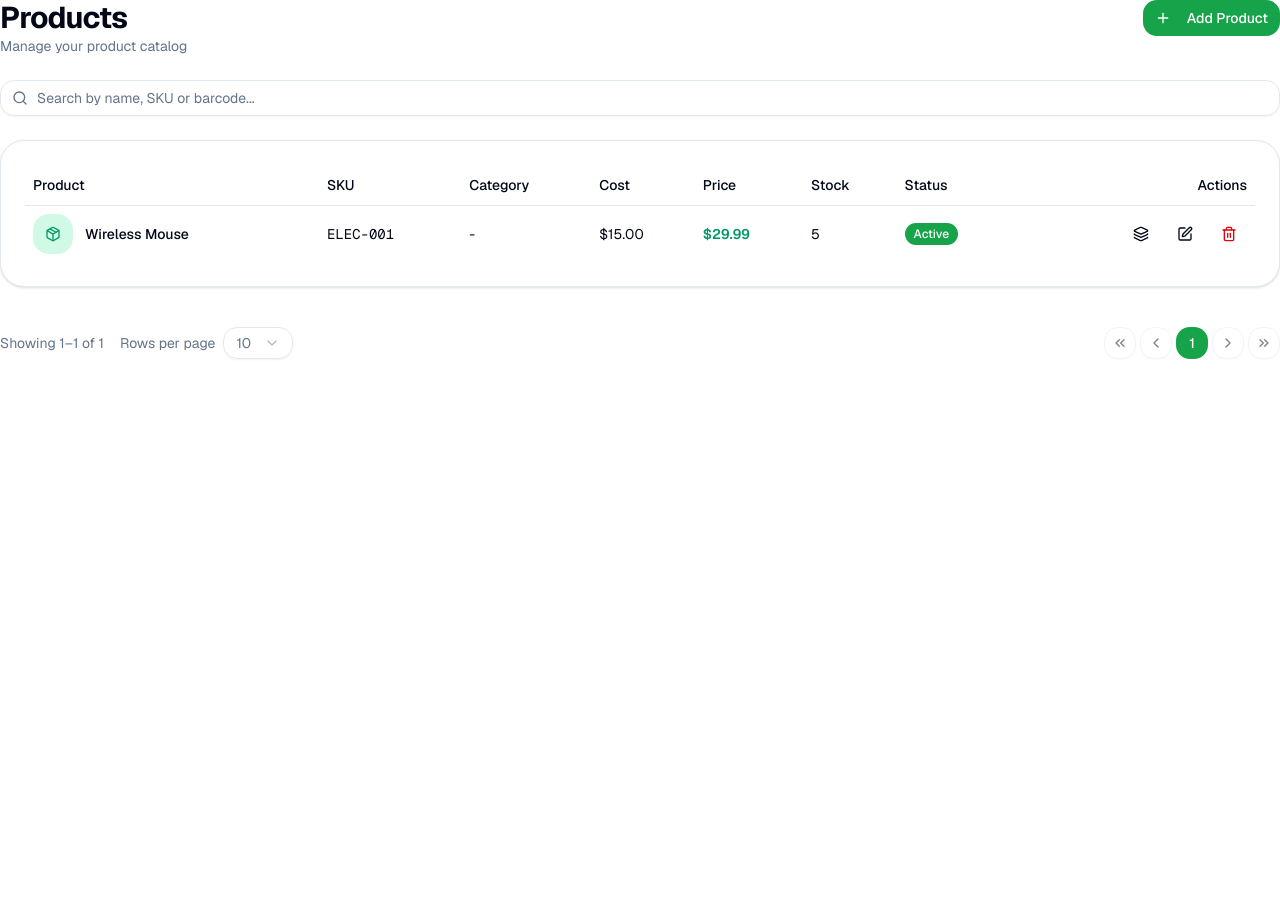
Test case: product form validation › a new product starts with the store default tax rate from Settings
Click the button "Add Product": (1211, 18) x1=1143 y1=0 x2=1279 y2=36
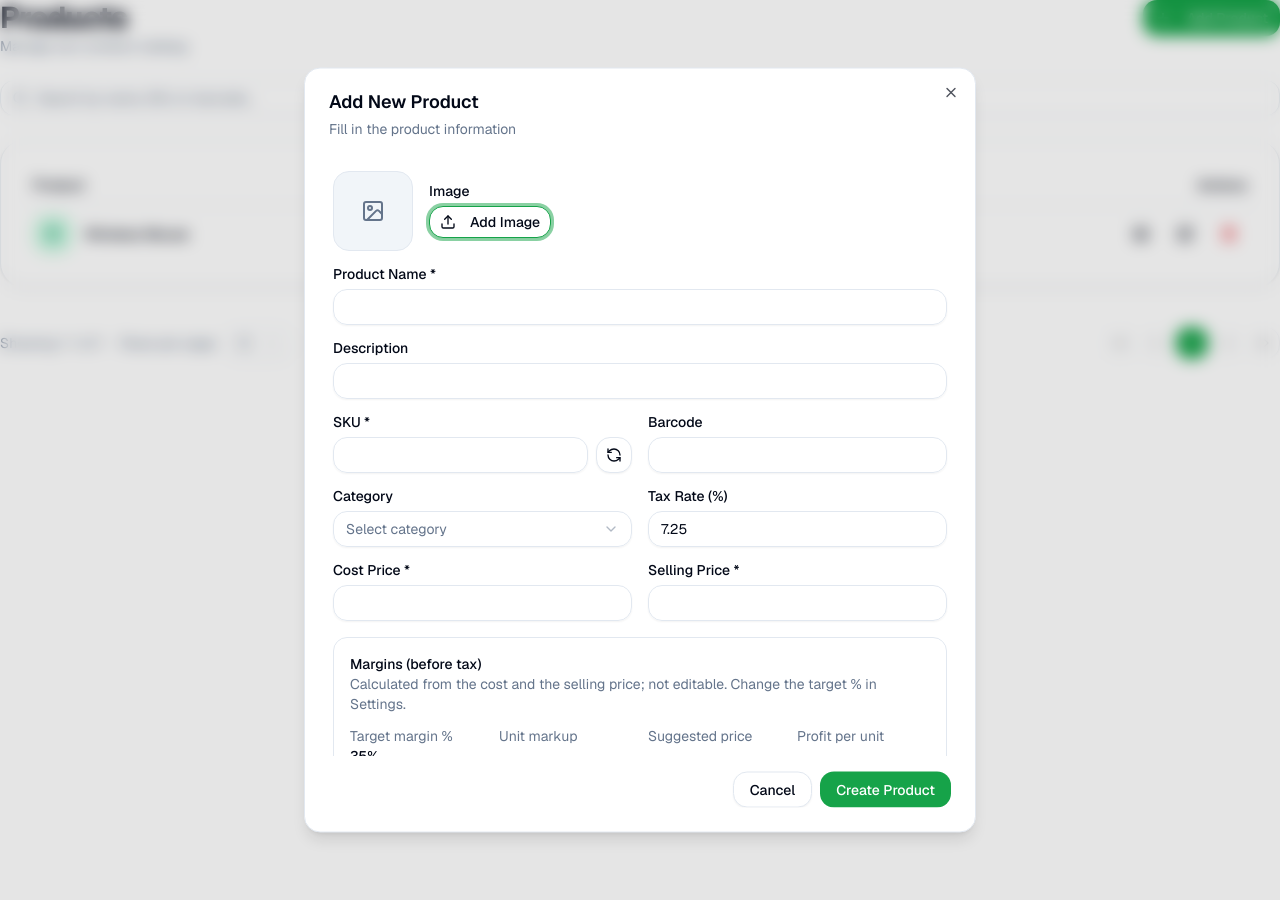
Check: the dialog is shown, box x1=304 y1=68 x2=976 y2=832
Check: the number field labelled "Tax Rate (%)" holds "7.25", box x1=648 y1=510 x2=947 y2=546
